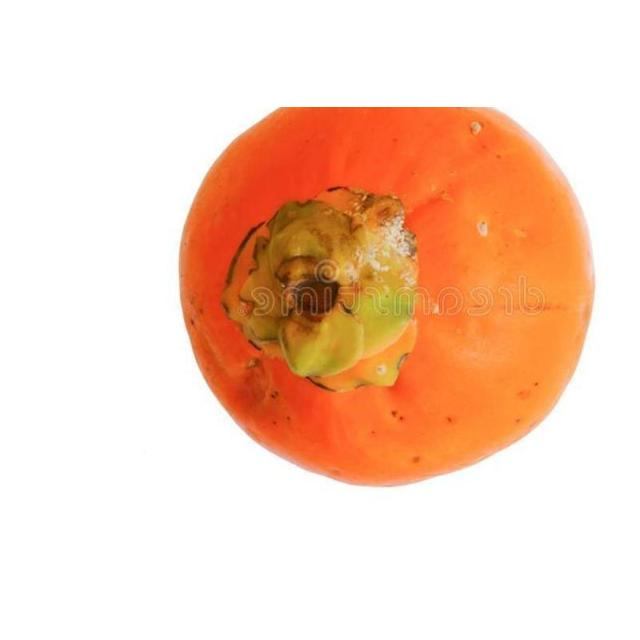good: (182, 107, 597, 489)
